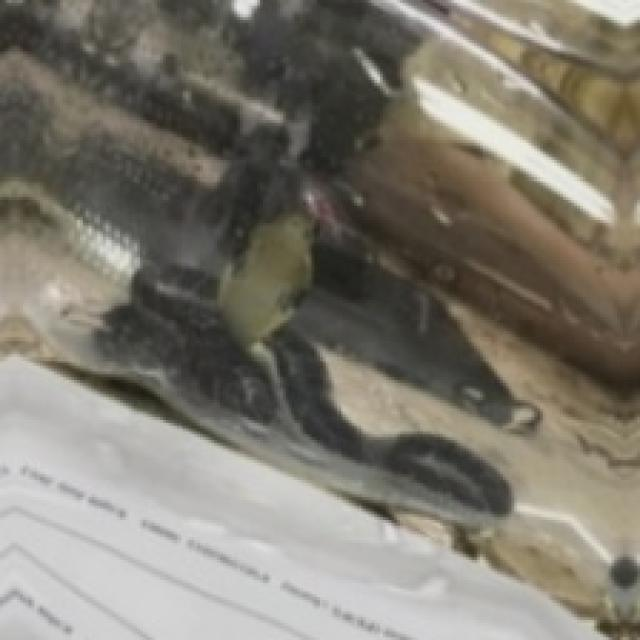king cobra: (0, 0, 637, 617)
